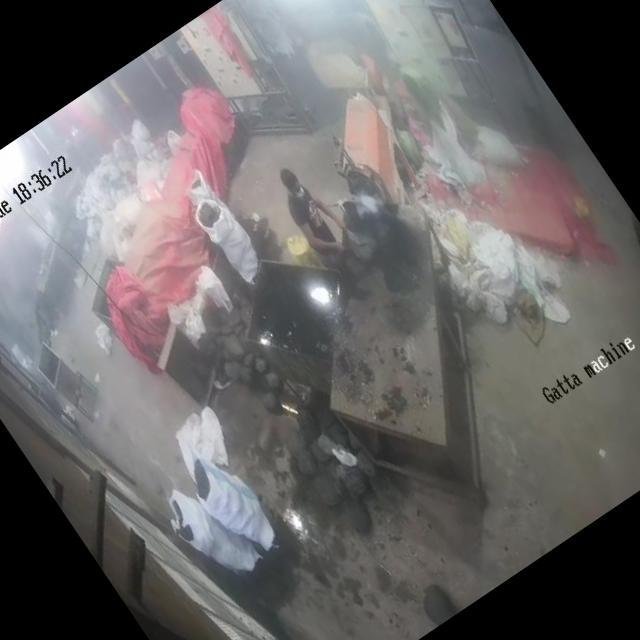person: (266, 156, 360, 272)
